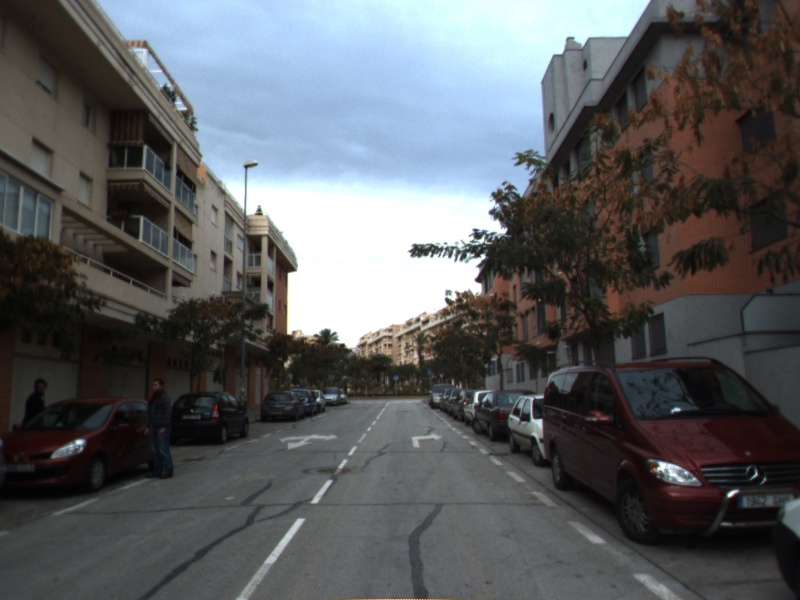RIGHT: (410, 431, 445, 449)
